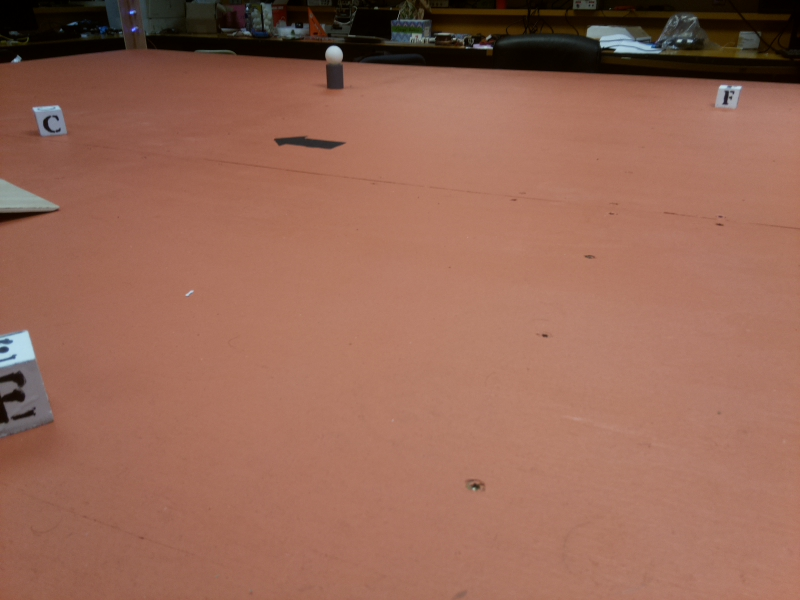blockC: (31, 104, 70, 137)
blockE: (1, 335, 60, 437)
blockF: (716, 84, 744, 114)
obstacle: (324, 47, 348, 91)
slope: (1, 174, 65, 222)
start: (274, 132, 349, 152)
